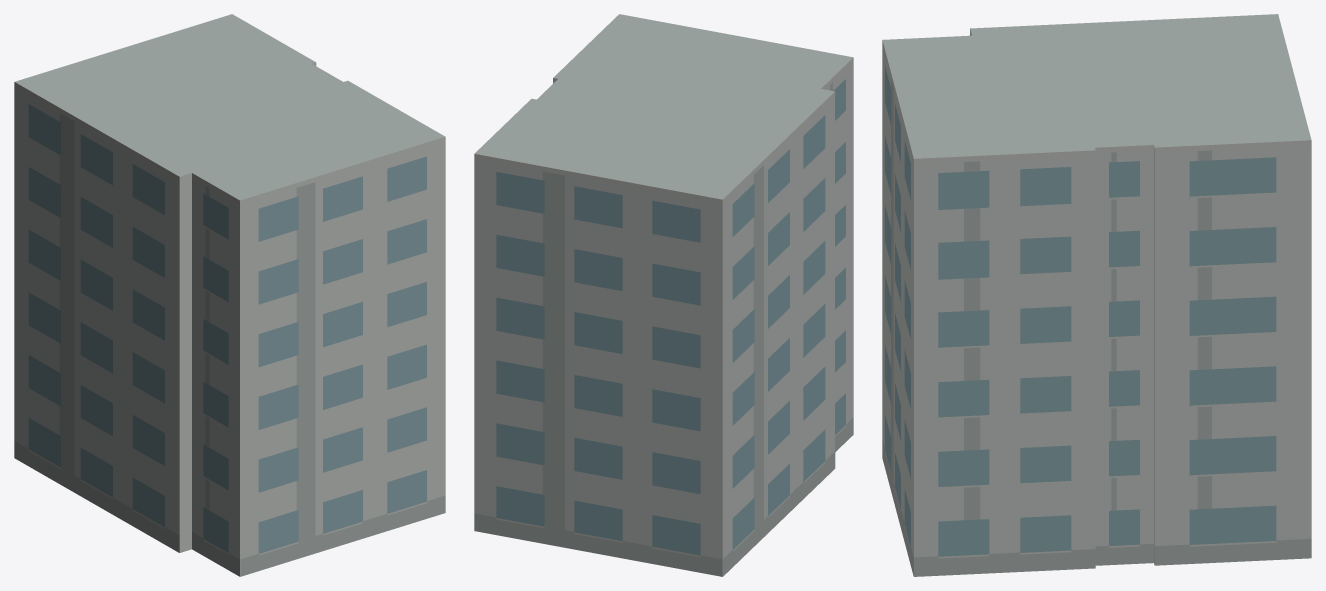
File: survey-upis-32608010.glb
3 views of the same model, side by side, from view 1: azimuth 30°, elevation 25°; view 2: azimuth 150°, elevation 25°; view 3: azimuth 270°, elevation 25° (orthographic). The views are drawn at different scales.
Visible parts, largest first — view 1: survey-upis-32608010.tmp; view 2: survey-upis-32608010.tmp; view 3: survey-upis-32608010.tmp.
Boxes of the visible parts, x1,y1,x2,y2 form: survey-upis-32608010.tmp: [14, 14, 445, 576]; survey-upis-32608010.tmp: [474, 14, 853, 576]; survey-upis-32608010.tmp: [882, 14, 1311, 576].
Size of the model in its own units: 13.75 by 18.5 by 17.22.
